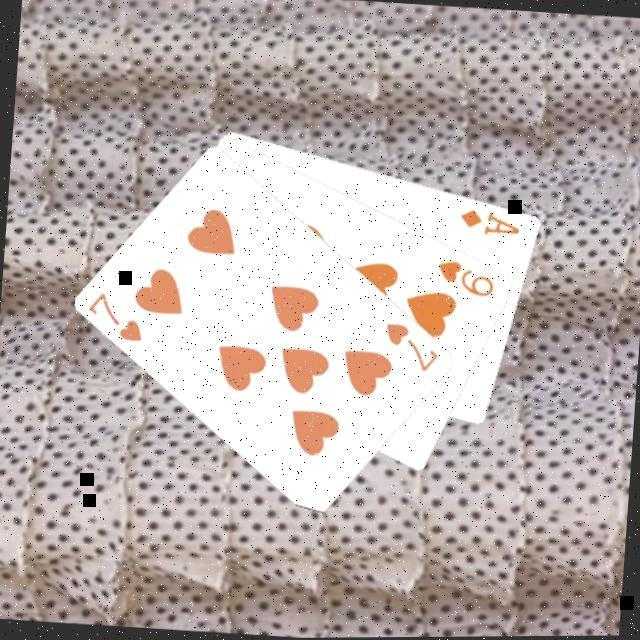7H: (81, 288, 148, 347), (378, 319, 443, 377)
9H: (431, 257, 498, 302)
AD: (455, 206, 523, 240)
